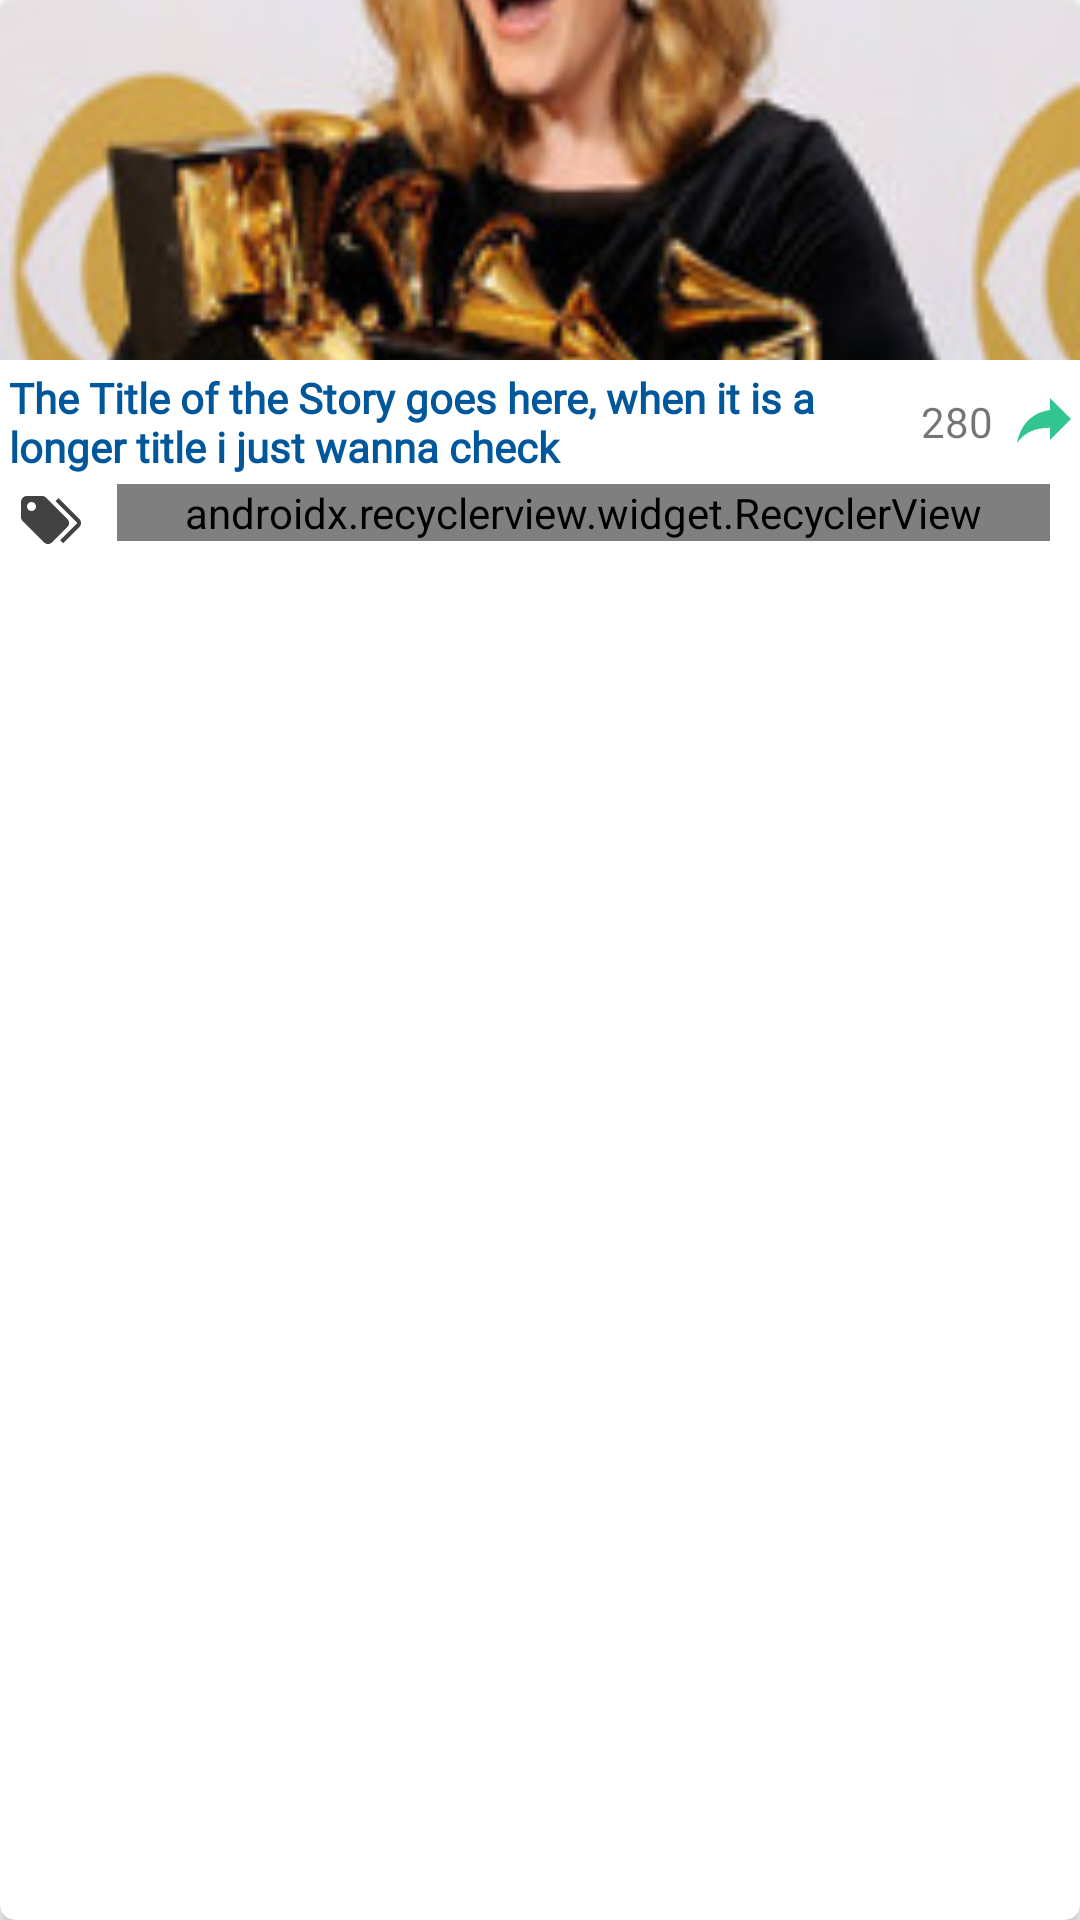

Icon click points for this 1080 x 1920 phone screenshot, format point (x, y):
share: point (1044, 420)
tag: point (51, 520)
